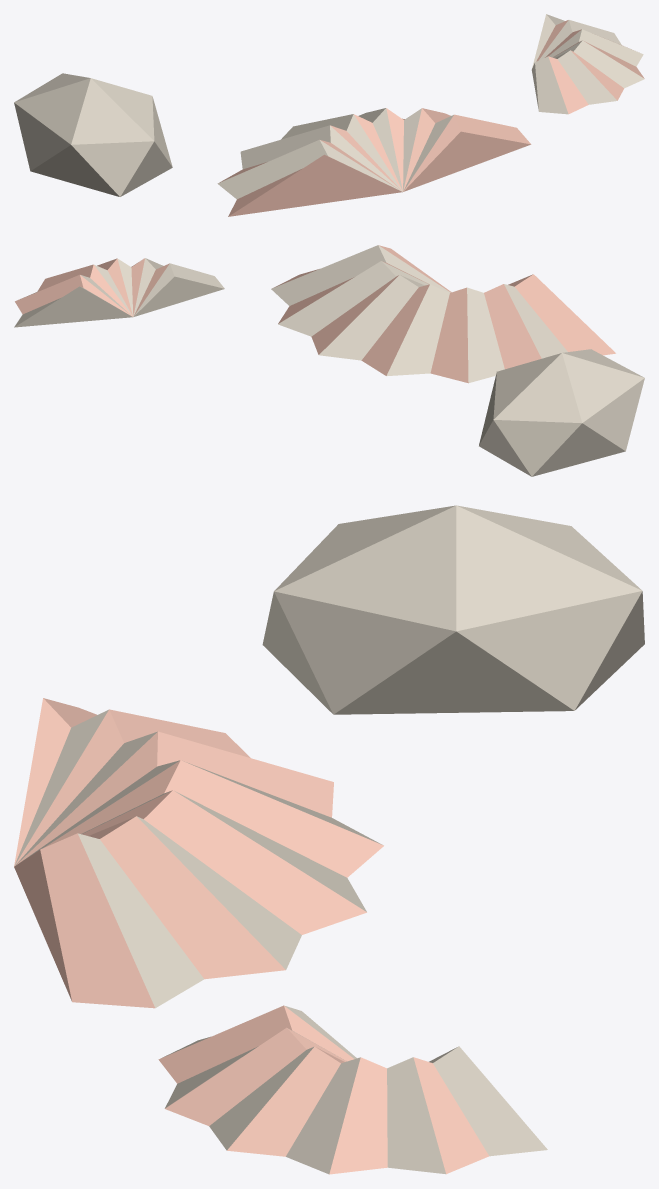
Rendered from shell.glb.
The picture shows the model from 3 angles, top to bottom: view 1: azimuth 30°, elevation 25°; view 2: azimuth 150°, elevation 25°; view 3: azimuth 270°, elevation 25°; orthographic projection. The views are drawn at different scales.
Visible parts, largest first — view 1: Body; view 2: Body; view 3: Body.
Part boxes in pixels (x1,y1,x2,y2): Body: (14,14,644,216); Body: (14,245,644,476); Body: (14,505,644,1174).
Bounding box in the file's own units: 0.5769 × 0.088 × 0.271.
